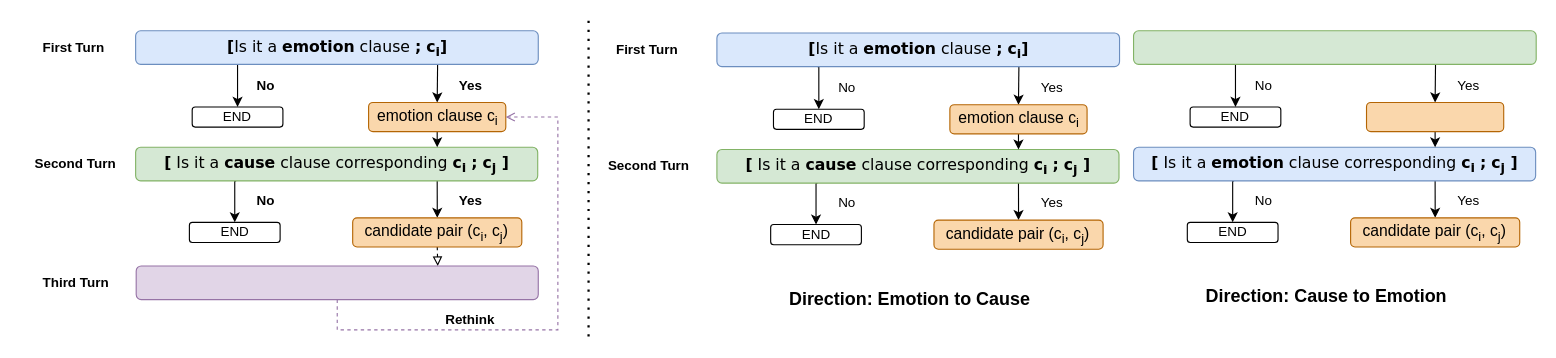
This 1556x358 diagram has some shape labels left out. The shapes that lost their labels are listed below. From the top down, each one's centre as x and y in pixels, then its label:
At point 1334,47: "[ Is it a cause clause ; c i ]".
At point 1434,116: "cause clause c i".
At point 336,282: "[ Is it a emotion clause corresponding c j ; c i ]".
